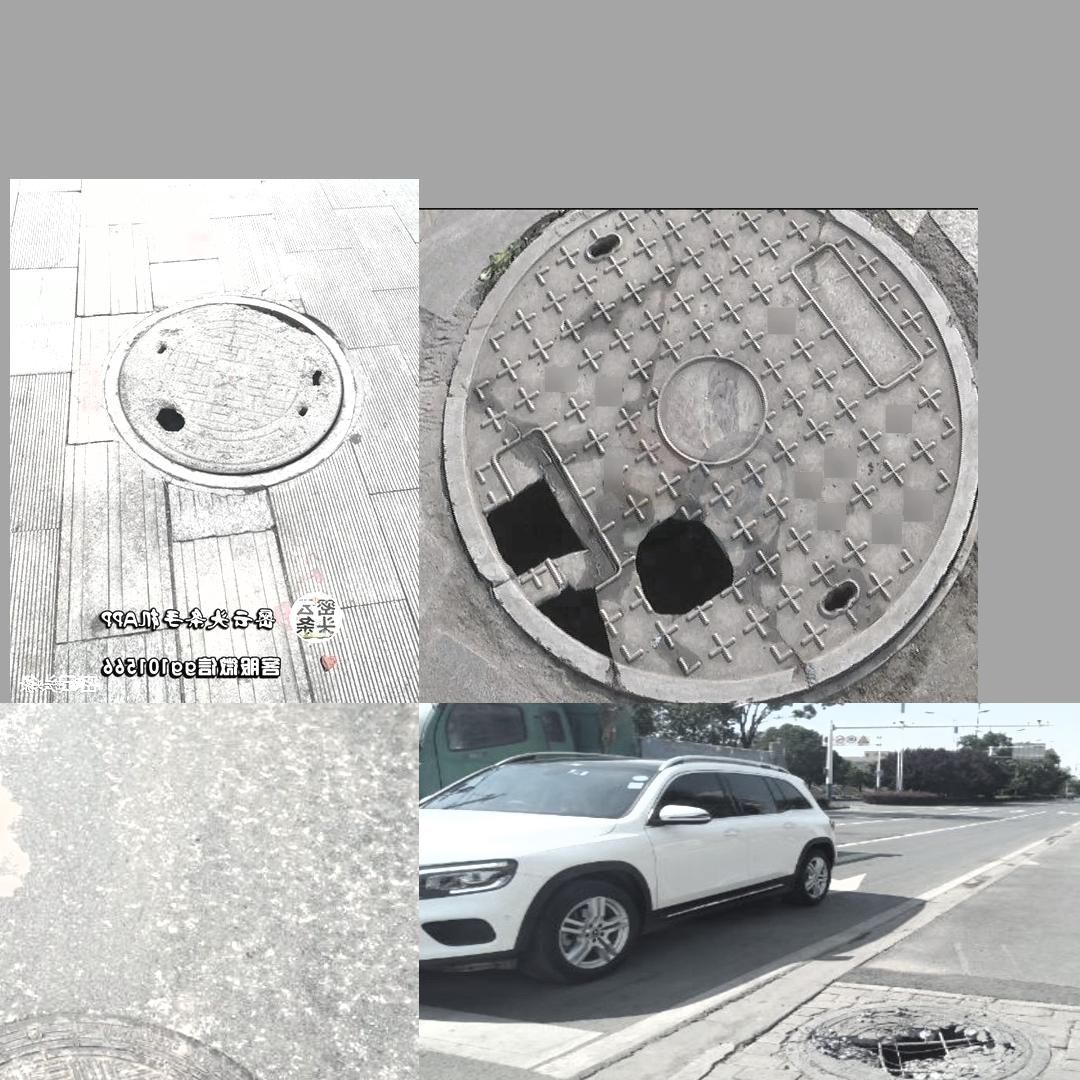broke: (467, 208, 962, 687), (87, 274, 374, 496), (0, 992, 331, 1080), (782, 1000, 1050, 1080)
